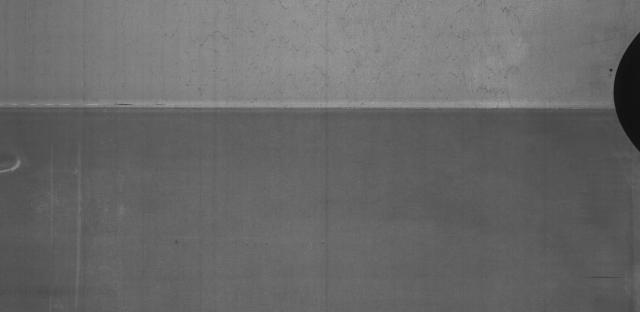welding_line: (2, 92, 629, 130)
